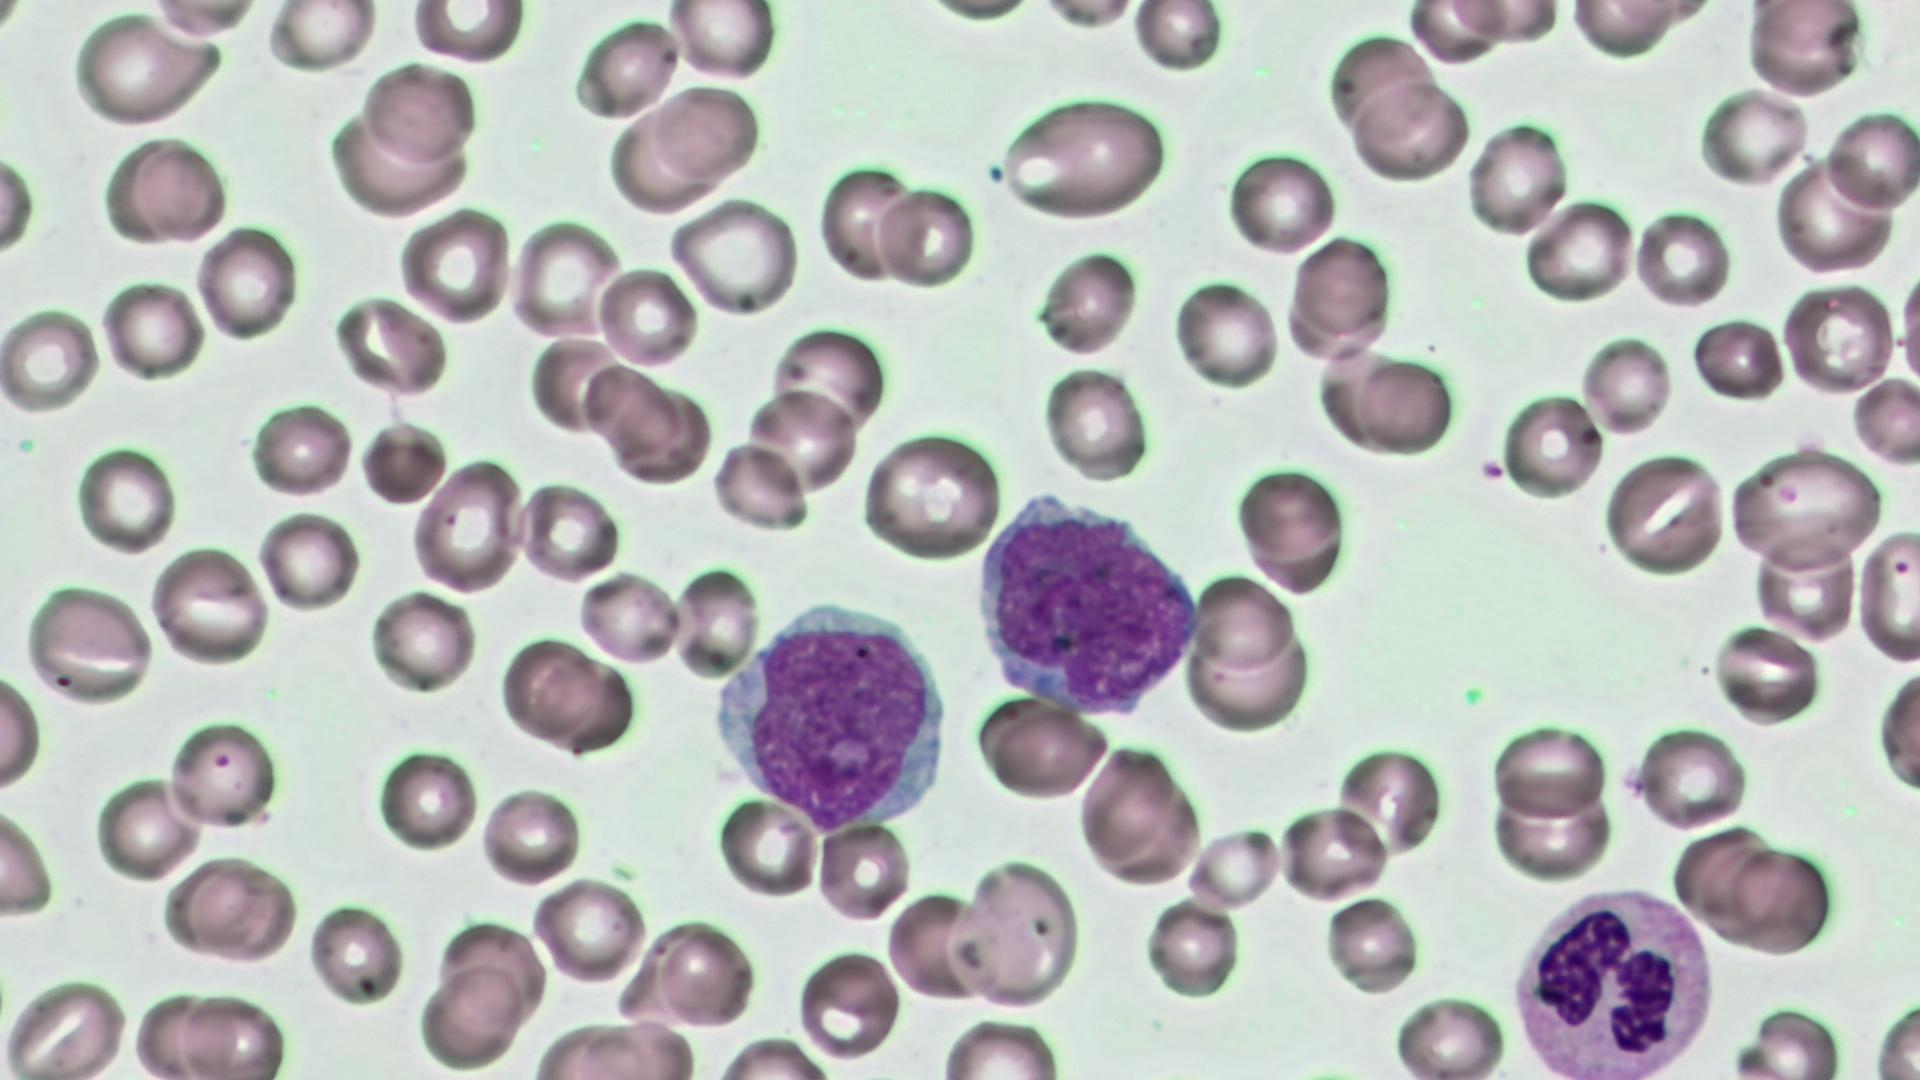RBC: (999, 94, 1172, 223), (951, 856, 1083, 1014), (857, 429, 1003, 564), (1725, 447, 1884, 567), (69, 9, 224, 129), (1076, 742, 1190, 886), (666, 197, 801, 318), (325, 109, 473, 219), (23, 581, 152, 704), (410, 458, 524, 596), (158, 854, 299, 964), (1604, 449, 1726, 575), (499, 637, 630, 753), (505, 216, 624, 343), (147, 544, 269, 667), (1234, 464, 1348, 594), (1187, 617, 1312, 731), (397, 206, 512, 327), (770, 321, 890, 436), (1326, 353, 1461, 455), (746, 385, 863, 502), (166, 716, 281, 835), (884, 885, 998, 1005), (1040, 363, 1152, 484), (976, 700, 1108, 802), (0, 974, 131, 1076), (192, 220, 299, 343), (333, 290, 448, 404), (1780, 282, 1898, 393), (1719, 842, 1836, 953), (1774, 161, 1888, 274), (360, 57, 478, 166), (1466, 117, 1569, 241), (1522, 195, 1636, 307), (529, 874, 646, 983), (1349, 80, 1469, 184), (1029, 244, 1138, 358), (1750, 529, 1858, 644), (815, 160, 914, 285), (573, 12, 684, 123), (1224, 147, 1336, 257), (1172, 276, 1280, 390), (112, 137, 226, 244), (416, 960, 524, 1072), (71, 442, 177, 556), (1500, 387, 1605, 502), (1638, 724, 1749, 832), (1491, 719, 1608, 821), (365, 588, 475, 696), (95, 771, 202, 882), (794, 947, 898, 1061), (1710, 622, 1824, 725), (97, 274, 207, 380), (1696, 86, 1808, 189), (1275, 803, 1388, 905), (1742, 0, 1864, 94), (594, 262, 699, 370), (876, 180, 978, 291), (649, 82, 764, 180), (1, 303, 101, 415), (517, 478, 622, 584), (717, 794, 820, 902), (256, 507, 359, 615), (655, 920, 757, 1029), (375, 745, 477, 854), (306, 898, 405, 1010), (814, 817, 914, 926), (244, 400, 356, 497), (672, 561, 761, 682), (576, 568, 683, 666), (1194, 571, 1294, 674), (1292, 235, 1391, 339), (478, 785, 582, 884), (1142, 899, 1241, 1001), (1389, 992, 1508, 1076), (665, 0, 780, 86), (1824, 109, 1917, 214), (175, 989, 287, 1076), (1321, 895, 1420, 992), (1634, 207, 1730, 307), (1581, 333, 1674, 436), (711, 440, 809, 535), (1852, 525, 1918, 664), (262, 0, 380, 74), (1181, 824, 1280, 910), (1689, 314, 1785, 400), (406, 0, 528, 67), (357, 417, 447, 507), (935, 1015, 1063, 1078), (1743, 1004, 1845, 1078), (1128, 1, 1224, 74), (0, 800, 56, 922), (1402, 2, 1505, 64), (1850, 374, 1918, 466), (1875, 665, 1920, 800), (0, 667, 43, 794), (0, 142, 36, 266), (1872, 997, 1920, 1078), (1031, 0, 1142, 31)
WBC: (706, 599, 962, 834), (972, 493, 1206, 723), (1507, 882, 1722, 1077)
